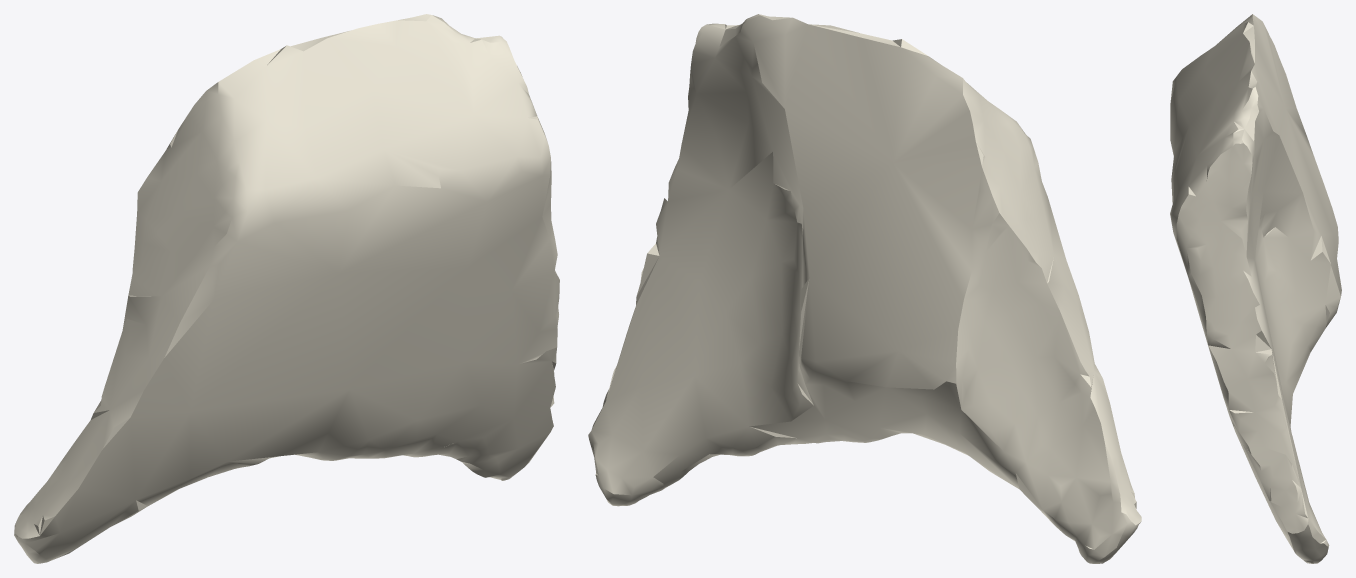
The model's file is fma52851_mm2043.glb.
3 renders of one model, left to right at view 1: azimuth 30°, elevation 25°; view 2: azimuth 150°, elevation 25°; view 3: azimuth 270°, elevation 25°, orthographic. The views are drawn at different scales.
Parts seen in each view (by area): view 1: FMA52851_MM2043; view 2: FMA52851_MM2043; view 3: FMA52851_MM2043.
Boxes of the visible parts, box(x1,y1,x2,y2) form: FMA52851_MM2043: box(14, 14, 559, 563); FMA52851_MM2043: box(588, 14, 1141, 563); FMA52851_MM2043: box(1170, 14, 1341, 563).
Bounding box in the file's own units: 0.0186 × 0.0169 × 0.00604.
